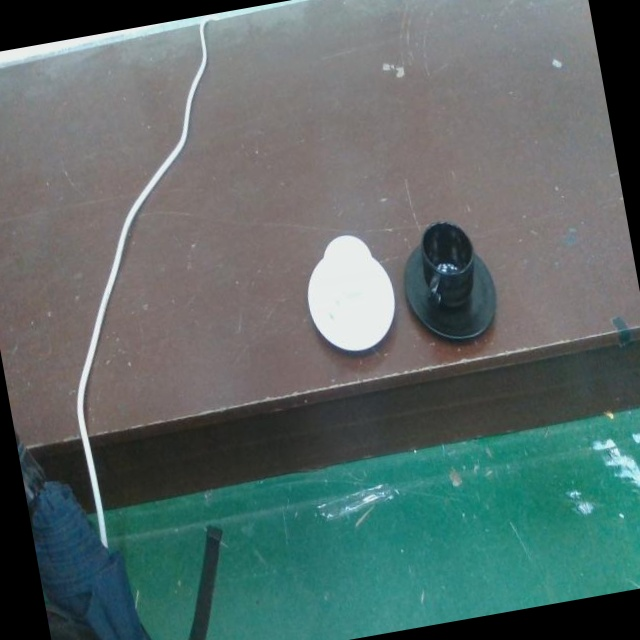black: (402, 217, 495, 350)
white: (305, 232, 395, 359)
